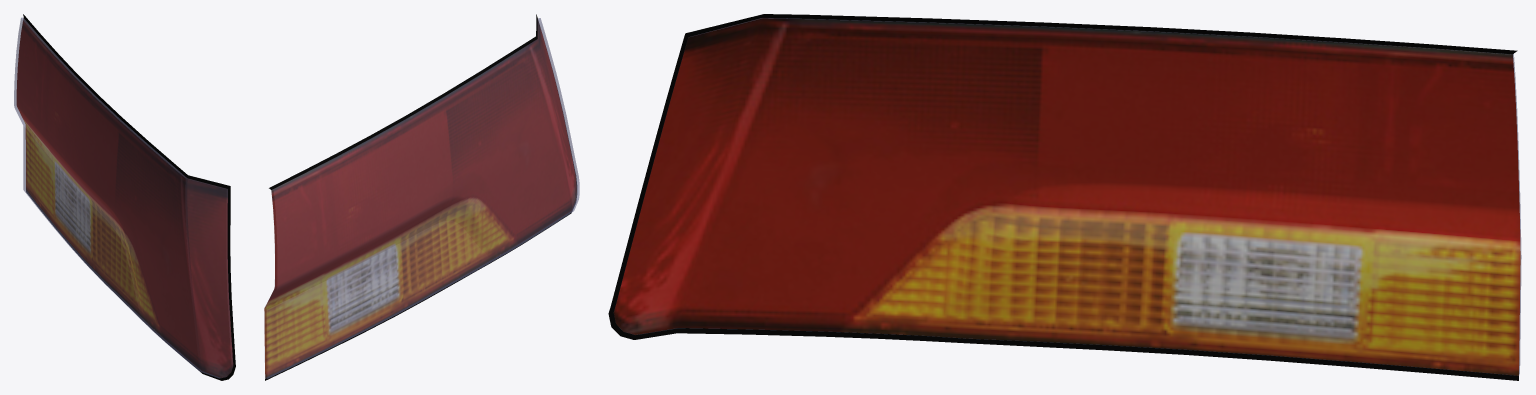
The picture shows the model from 3 angles, left to right: view 1: azimuth 30°, elevation 25°; view 2: azimuth 150°, elevation 25°; view 3: azimuth 270°, elevation 25°; orthographic projection. The views are drawn at different scales.
Parts seen in each view (by area): view 1: H611_541D_L_H611_541D_L_2_DTaSI, H611_541D_L_1_N_H611_541D_L, H611_541D_L_H611_541D_L_3_D; view 2: H611_541D_L_H611_541D_L_2_DTaSI, H611_541D_L_1_N_H611_541D_L, H611_541D_L_H611_541D_L_3_D; view 3: H611_541D_L_1_N_H611_541D_L, H611_541D_L_H611_541D_L_3_D.
Part boxes in pixels (<box>): H611_541D_L_H611_541D_L_2_DTaSI: <box>14,17,232,378</box>; H611_541D_L_1_N_H611_541D_L: <box>16,18,233,377</box>; H611_541D_L_H611_541D_L_3_D: <box>23,14,235,380</box>; H611_541D_L_H611_541D_L_2_DTaSI: <box>264,18,579,378</box>; H611_541D_L_1_N_H611_541D_L: <box>264,19,576,377</box>; H611_541D_L_H611_541D_L_3_D: <box>265,14,576,380</box>; H611_541D_L_1_N_H611_541D_L: <box>613,17,1520,375</box>; H611_541D_L_H611_541D_L_3_D: <box>608,14,1518,380</box>.
Size of the model in its own units: 6.8 by 20.55 by 51.84.
